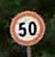limite 50: (8, 9, 46, 46)
